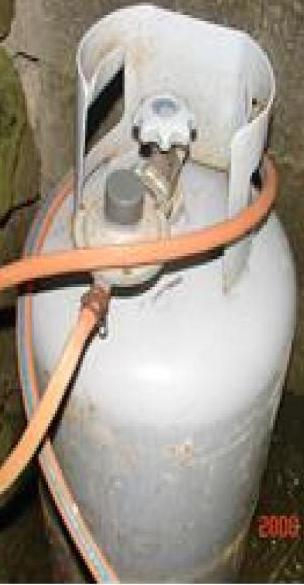cylinder: (1, 0, 304, 585)
